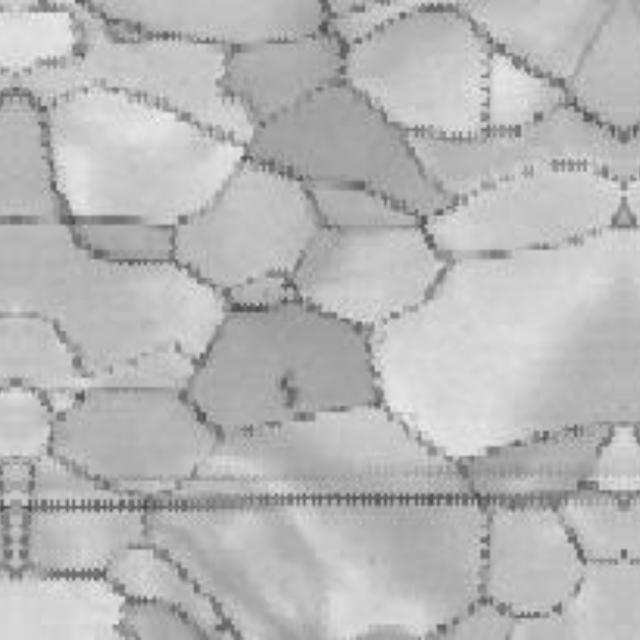good_void: (278, 369, 305, 409)
